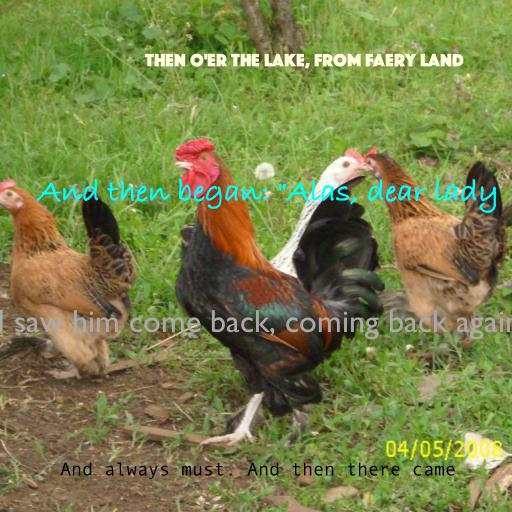Andale Mono: (60, 462, 456, 480)
Bradley Hand: (37, 178, 499, 213)
Gill Sans: (0, 310, 512, 340)
Phosphate: (144, 53, 464, 69)
